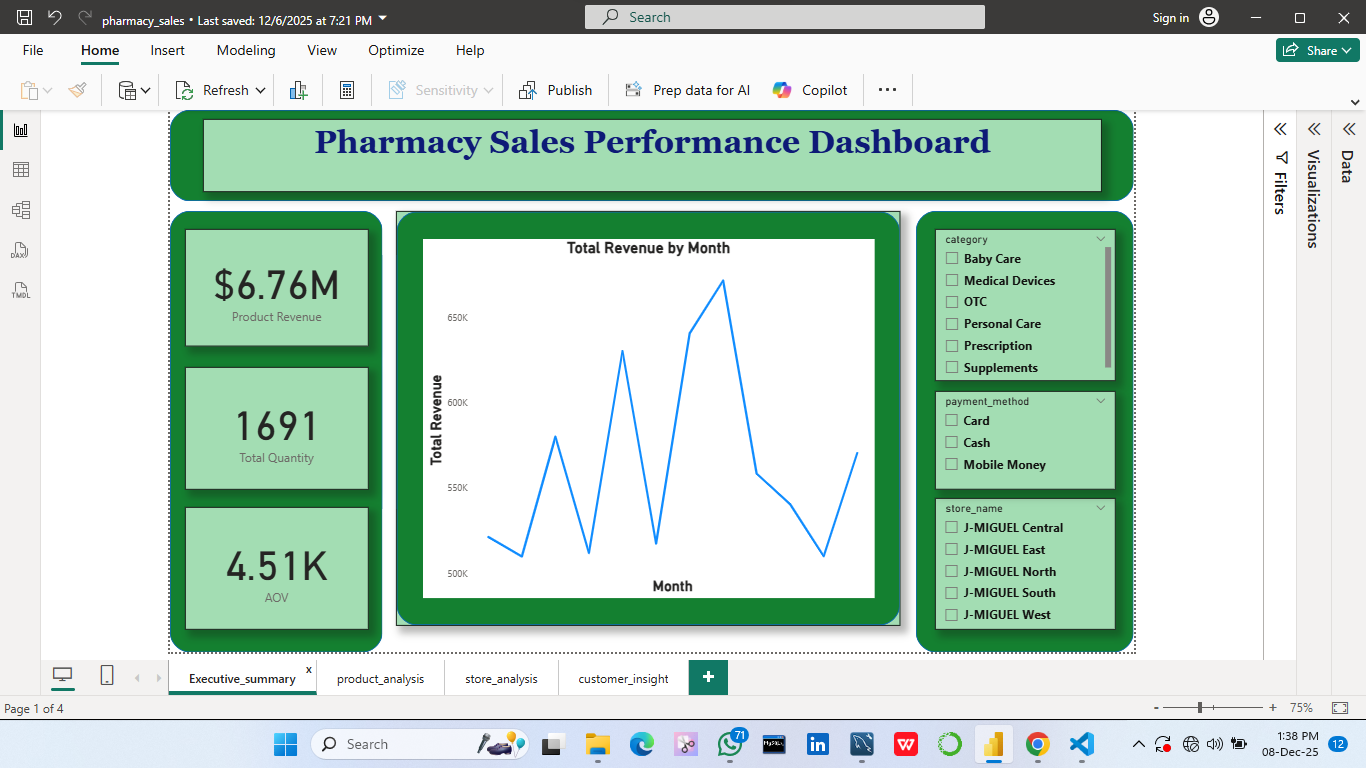

This screenshot's page, from the dashboard's own definition file:
{"tool":"powerbi","page":{"name":"Executive_summary","canvas":[1280,720],"ordinal":0},"visuals":[{"type":"shape","box":[0,0,1280,120.9],"z":0},{"type":"shape","box":[300.7,134.4,670.2,551],"z":1000},{"type":"shape","box":[991.1,134.4,288.9,586.2],"z":2000},{"type":"shape","box":[0,134.4,282.2,586.2],"z":3000},{"type":"card","fields":{"Values":["pharmacy_sales sales.Product Revenue"]},"box":[20.2,157.9,243.6,156.2],"z":4000},{"type":"card","fields":{"Values":["pharmacy_sales sales.AOV"]},"box":[20.2,527.5,243.6,162.9],"z":5000},{"type":"lineChart","title":"Total Revenue by Month","fields":{"Category":["pharmacy_sales sales.MonthName"],"Y":["pharmacy_sales sales.Total Revenue"]},"box":[336,171.3,599.7,477.1],"z":6000},{"type":"slicer","fields":{"Values":["pharmacy_sales stores.store_name"]},"box":[1016.3,515.7,240.2,174.7],"z":7000},{"type":"slicer","fields":{"Values":["pharmacy_sales products.category"]},"box":[1016.3,157.9,240.2,201.6],"z":8000},{"type":"slicer","fields":{"Values":["pharmacy_sales sales.payment_method"]},"box":[1016.3,372.9,240.2,131],"z":9000},{"type":"card","fields":{"Values":["pharmacy_sales sales.Total Quantity"]},"box":[20.2,341,243.6,162.9],"z":10000},{"type":"textbox","box":[43.7,11.8,1194.3,97.4],"z":11000}]}

Visuals, with their boxes on the page's 1280x720 design canvas (x1, y1, x2, y2). These are canvas units, not pixel positions in the 1366x768 screenshot, which may show the page scaled, cropped or inside an application window:
shape: pyautogui.locateOnScreen(0, 0, 1280, 121)
shape: pyautogui.locateOnScreen(301, 134, 971, 685)
shape: pyautogui.locateOnScreen(991, 134, 1280, 721)
shape: pyautogui.locateOnScreen(0, 134, 282, 721)
card - pharmacy_sales sales.Product Revenue: pyautogui.locateOnScreen(20, 158, 264, 314)
card - pharmacy_sales sales.AOV: pyautogui.locateOnScreen(20, 528, 264, 690)
"Total Revenue by Month" lineChart: pyautogui.locateOnScreen(336, 171, 936, 648)
slicer - pharmacy_sales stores.store_name: pyautogui.locateOnScreen(1016, 516, 1256, 690)
slicer - pharmacy_sales products.category: pyautogui.locateOnScreen(1016, 158, 1256, 360)
slicer - pharmacy_sales sales.payment_method: pyautogui.locateOnScreen(1016, 373, 1256, 504)
card - pharmacy_sales sales.Total Quantity: pyautogui.locateOnScreen(20, 341, 264, 504)
textbox: pyautogui.locateOnScreen(44, 12, 1238, 109)
